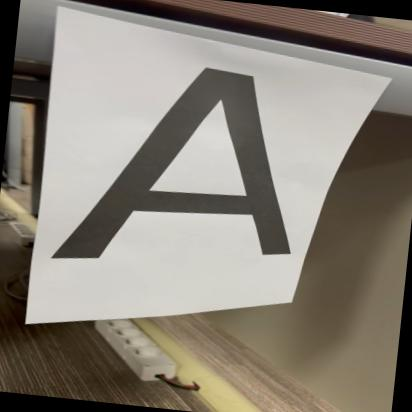seat: (40, 36, 334, 282)
